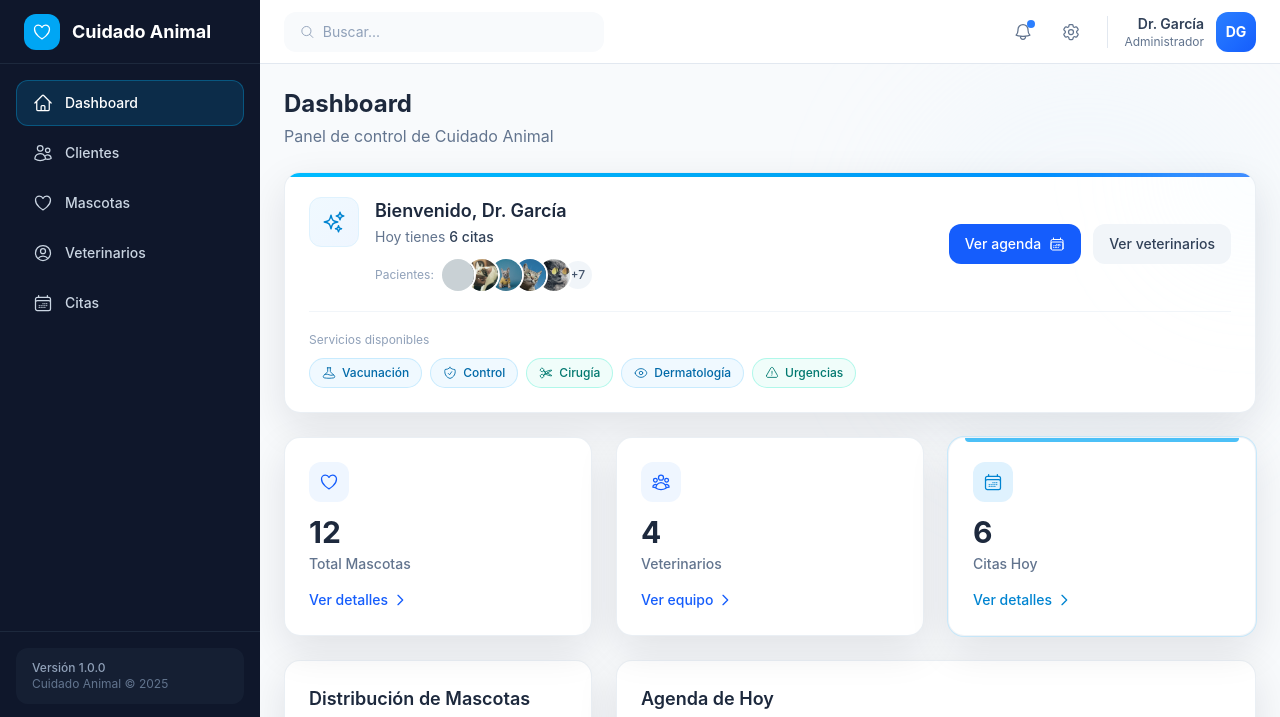
it: Navegación Sidebar › navega a Veterinarios
The width and height of the screenshot is (1280, 717).
expect the heading "Dashboard" is shown: met, box [284,89,412,118]
Step 1. Click the link "Veterinarios" → point(90, 253), box [33,243,146,263]
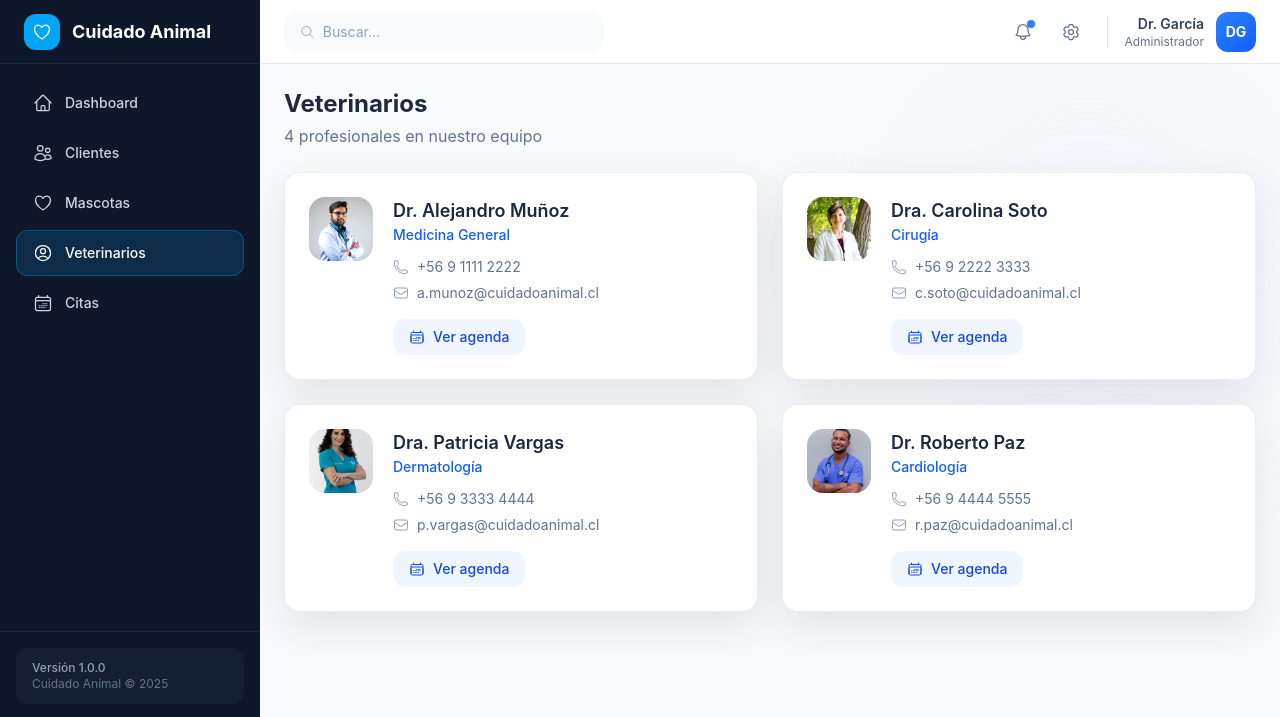
expect the heading "Veterinarios" is shown: met, box [284,89,427,118]
